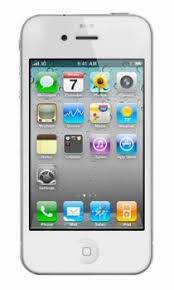iphone4: (16, 10, 155, 277)
